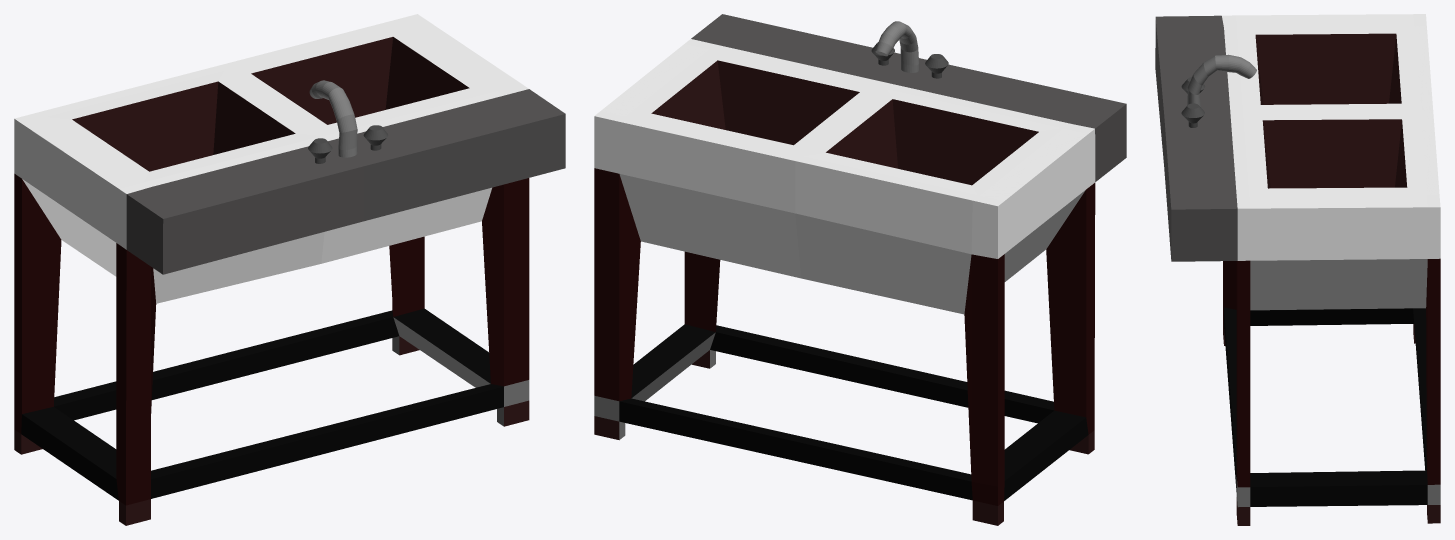
Rendered from Lavaplatos 1.fbx.
The picture shows the model from 3 angles, left to right: view 1: azimuth 30°, elevation 25°; view 2: azimuth 150°, elevation 25°; view 3: azimuth 270°, elevation 25°; orthographic projection. The views are drawn at different scales.
Visible parts, largest first — view 1: Cube; view 2: Cube; view 3: Cube.
Boxes of the visible parts, <box> form: Cube: <box>14,14,565,525</box>; Cube: <box>594,14,1126,525</box>; Cube: <box>1155,14,1440,525</box>.
Bounding box in the file's own units: 30139 × 26923 × 18556.
Materials: 1 (1 with a texture image).
